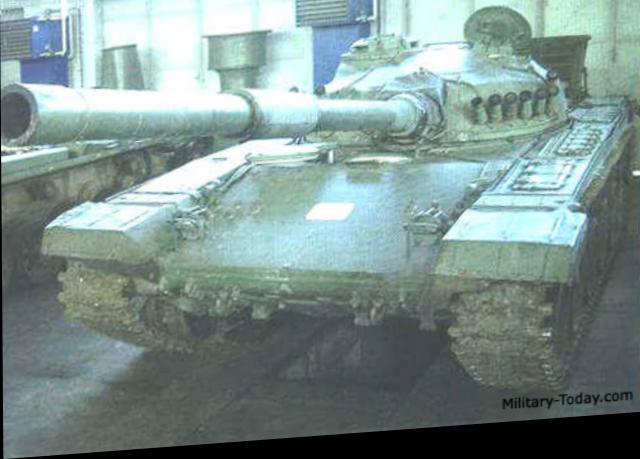tank: (89, 16, 627, 404)
